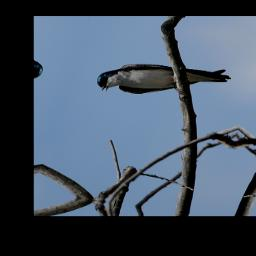Swallow: (94, 53, 234, 108)
